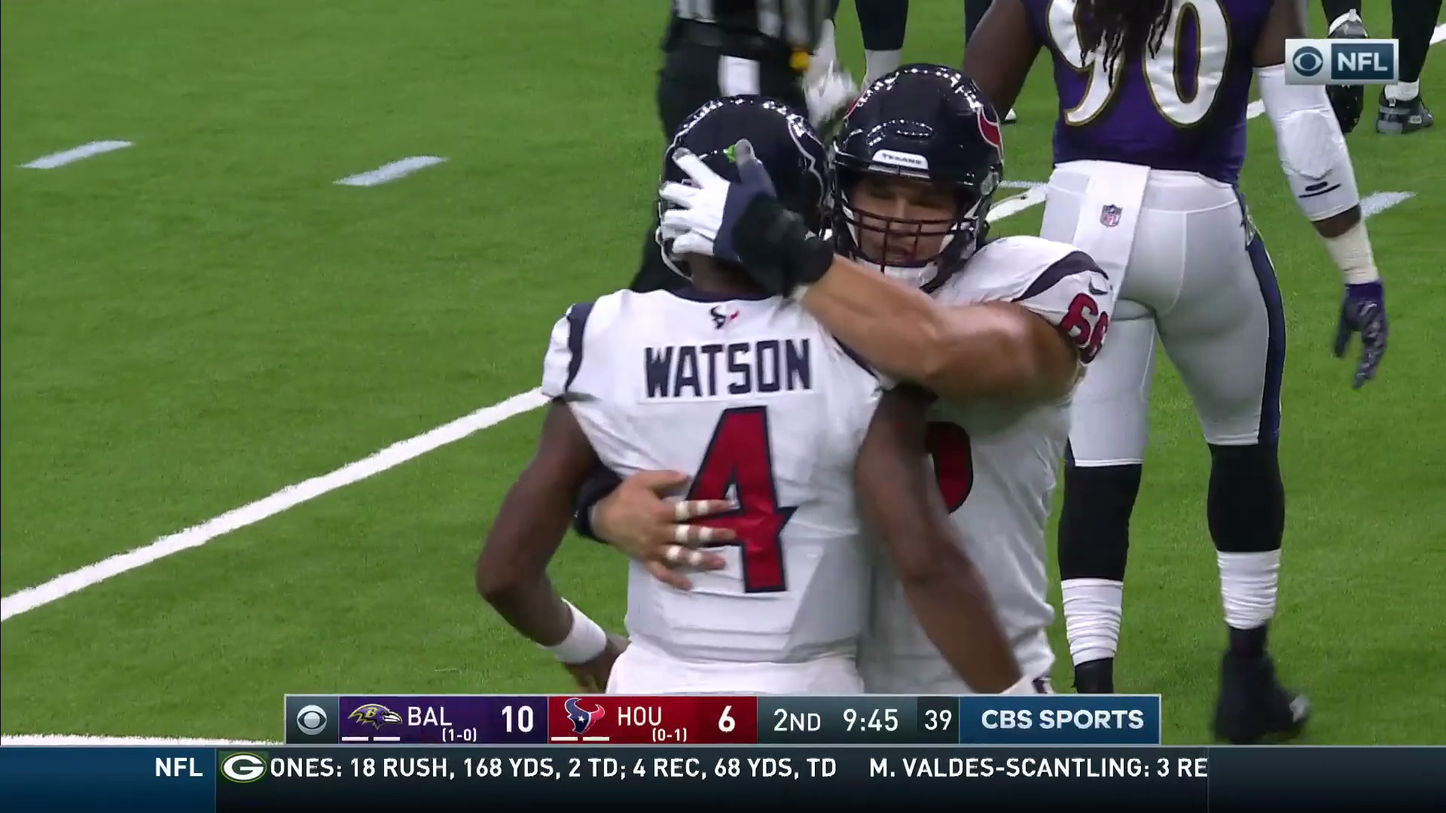Player: (451, 165, 956, 701)
